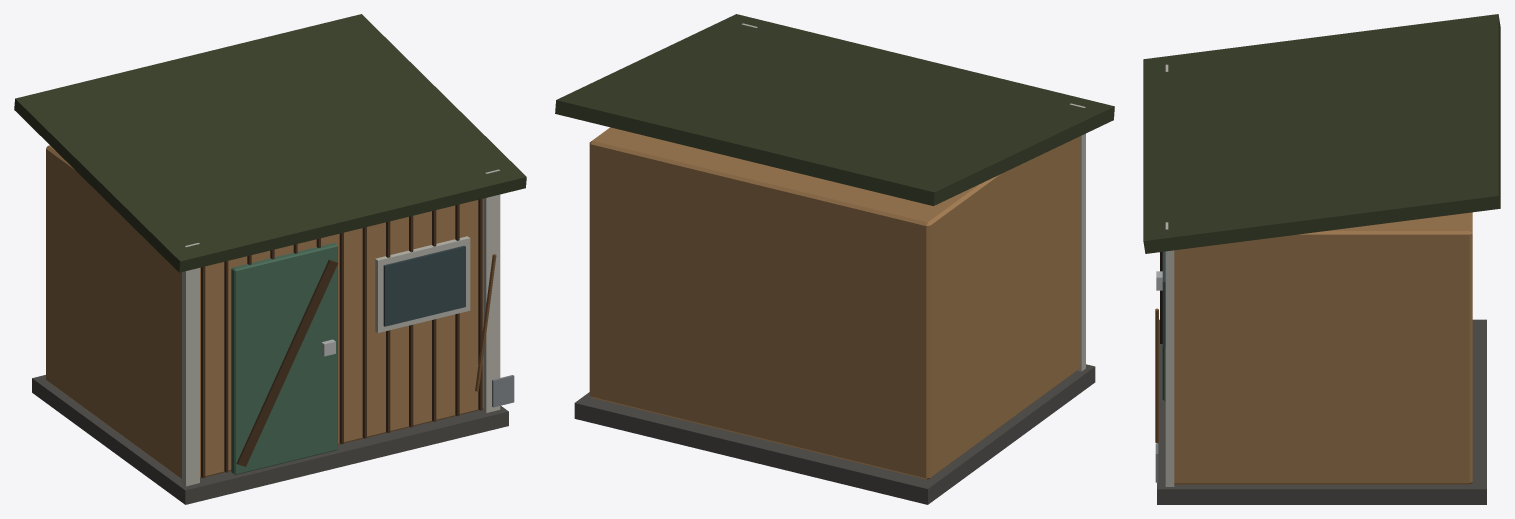
The model's file is garden_shed.fbx.
The picture shows the model from 3 angles, left to right: view 1: azimuth 30°, elevation 25°; view 2: azimuth 150°, elevation 25°; view 3: azimuth 270°, elevation 25°; orthographic projection. The views are drawn at different scales.
Parts seen in each view (by area): view 1: garden_shed; view 2: garden_shed; view 3: garden_shed.
Part boxes in pixels (x1,y1,x2,y2): garden_shed: [14, 14, 526, 504]; garden_shed: [555, 14, 1114, 504]; garden_shed: [1143, 14, 1500, 504].
Size of the model in its own units: 3 by 2.42 by 2.49.
